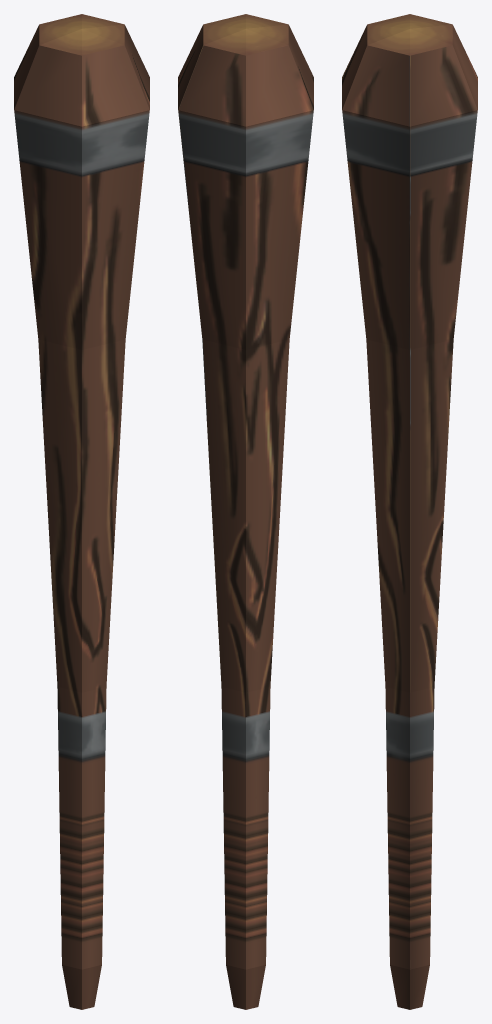
Rendered from w_cudgel_1.FBX.
The picture shows the model from 3 angles, left to right: view 1: azimuth 30°, elevation 25°; view 2: azimuth 210°, elevation 25°; view 3: azimuth 270°, elevation 25°; orthographic projection.
Visible parts, largest first — view 1: w_cudgel2; view 2: w_cudgel2; view 3: w_cudgel2.
Part boxes in pixels (x1,y1,x2,y2): w_cudgel2: [14, 14, 149, 1009]; w_cudgel2: [178, 14, 313, 1009]; w_cudgel2: [342, 14, 477, 1009].
Size of the model in its own units: 9.54 by 65.47 by 8.26.
